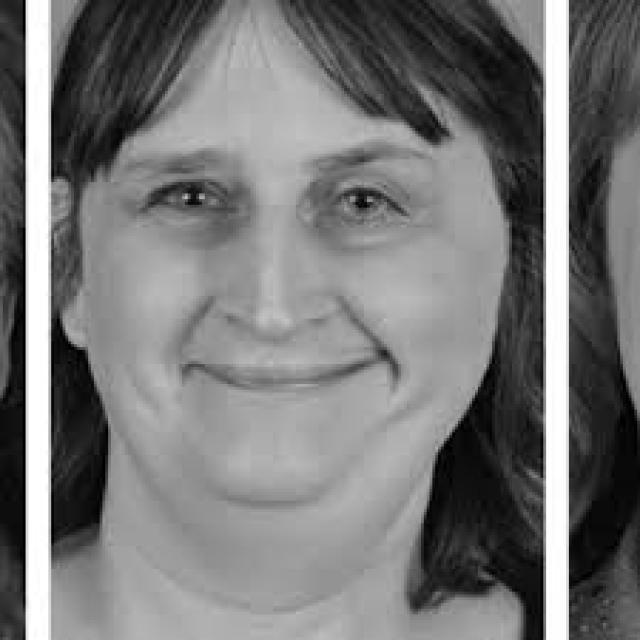stroke_face: (67, 21, 482, 546)
